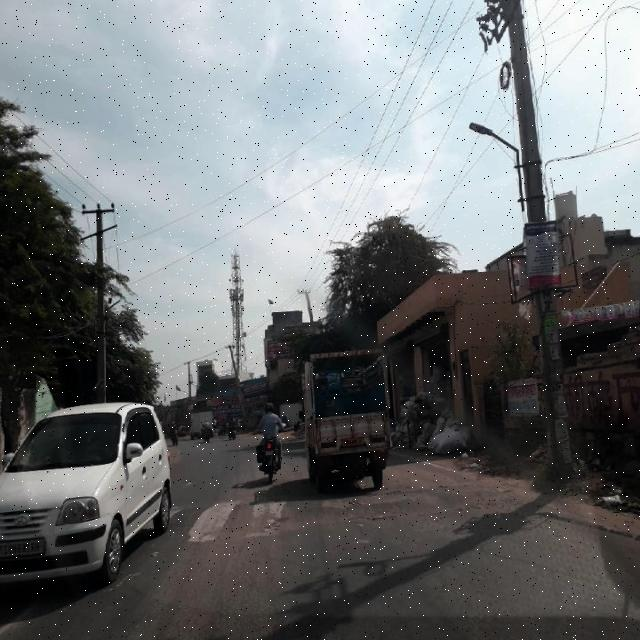D43: (180, 479, 476, 544)
